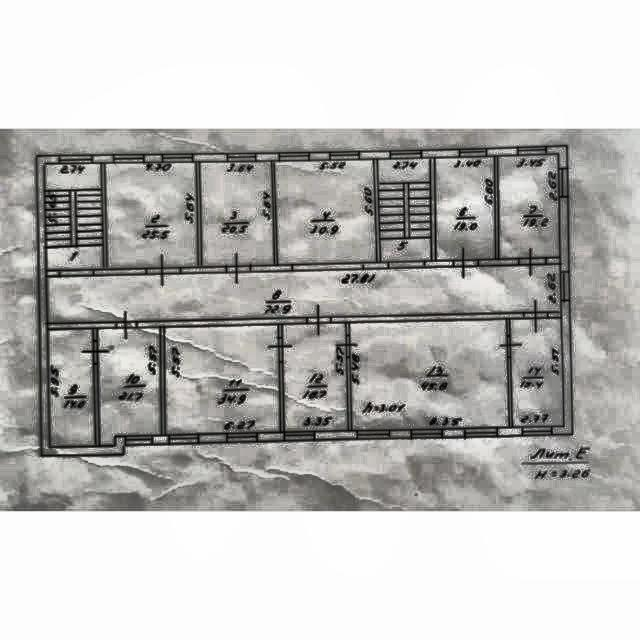room: (46, 265, 561, 324), (349, 319, 510, 431), (164, 324, 280, 435), (274, 158, 377, 266), (105, 161, 198, 269), (200, 161, 274, 267), (98, 328, 162, 446), (282, 322, 348, 433), (497, 154, 560, 259), (434, 156, 495, 261), (44, 163, 103, 271), (510, 318, 564, 427), (47, 328, 95, 448), (377, 158, 432, 261)
